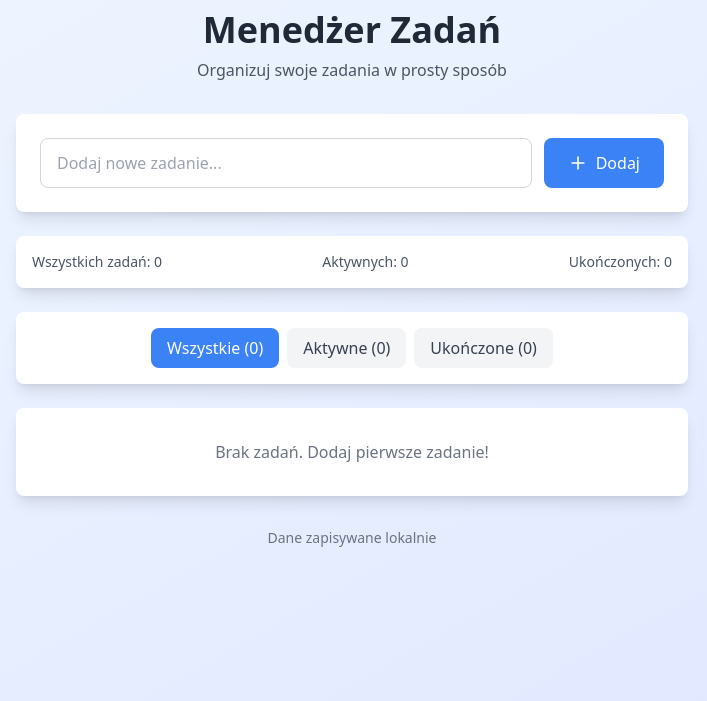
Scenario: TaskManager › filters tasks correctly
// Add one completed and one active task
In the field with placeholder "Dodaj nowe zadanie...": (286, 163) [40,138,532,188], type "Zrobione"
Click the button with aria-label "Add task": (604, 163) [544,138,664,188]
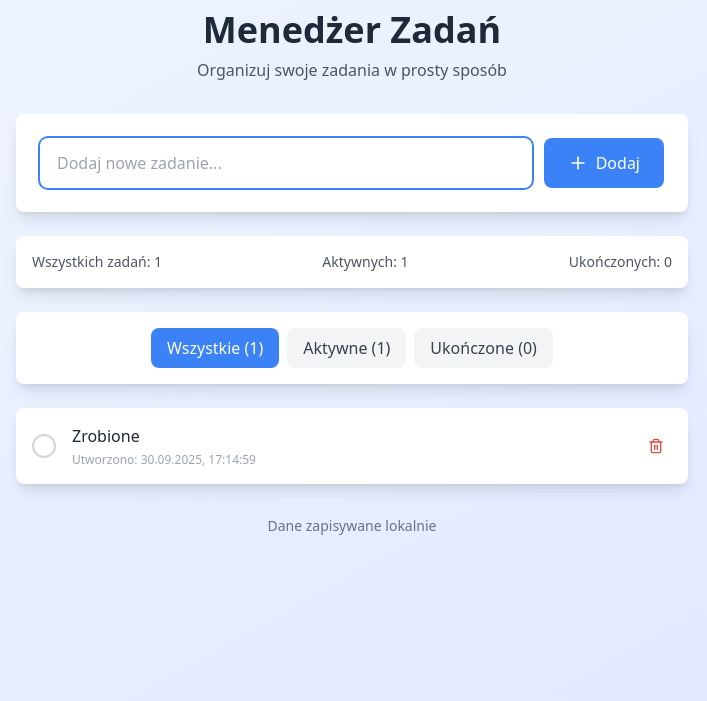
Click the button named "Toggle task": (44, 446) [32,434,56,458]
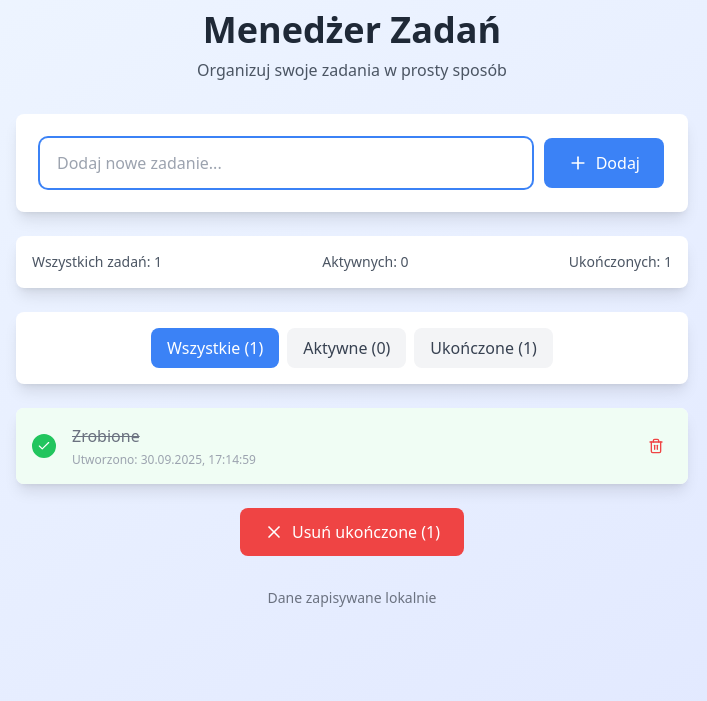
In the field with placeholder "Dodaj nowe zadanie...": (286, 163) [40,138,532,188], type "Do zrobienia"
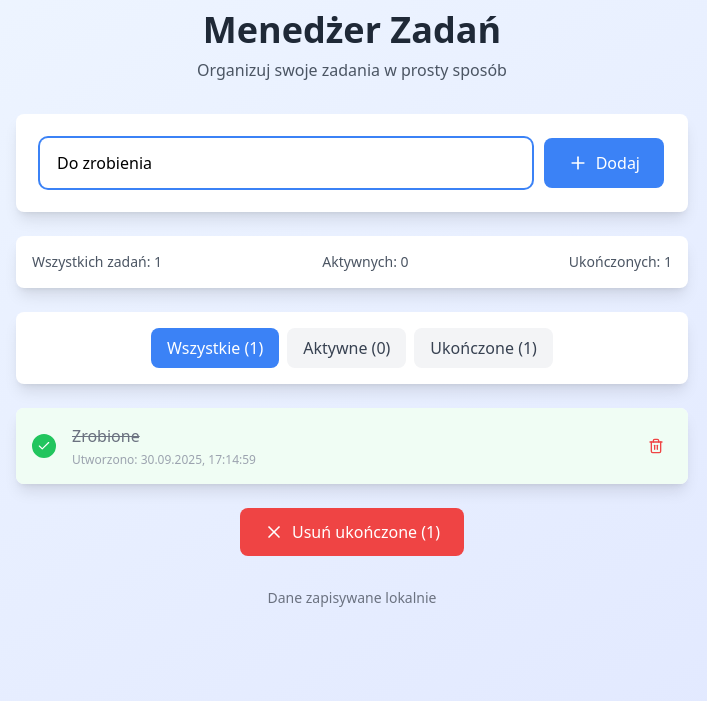
Click the button with aria-label "Add task": (604, 163) [544,138,664,188]
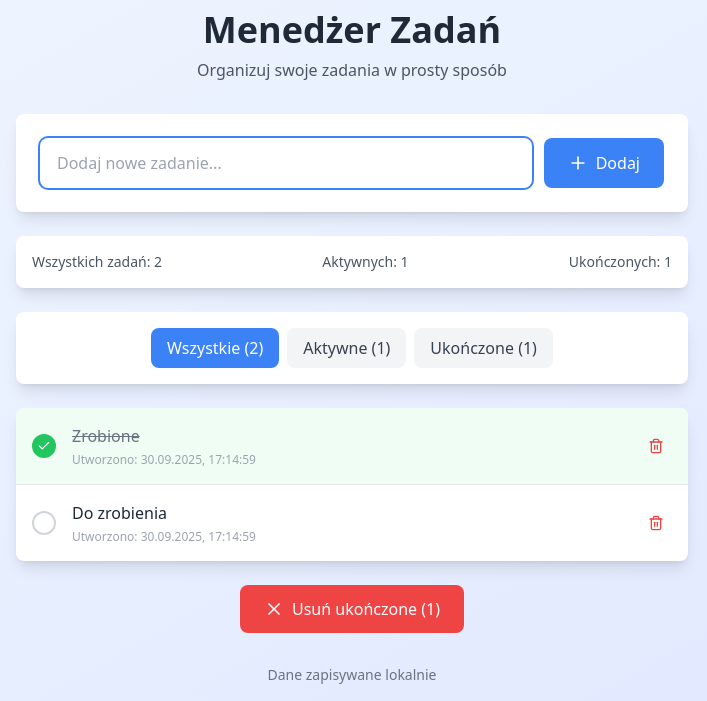
// Switch to completed
Click the button with aria-label "completed": (484, 348) [414,328,553,368]
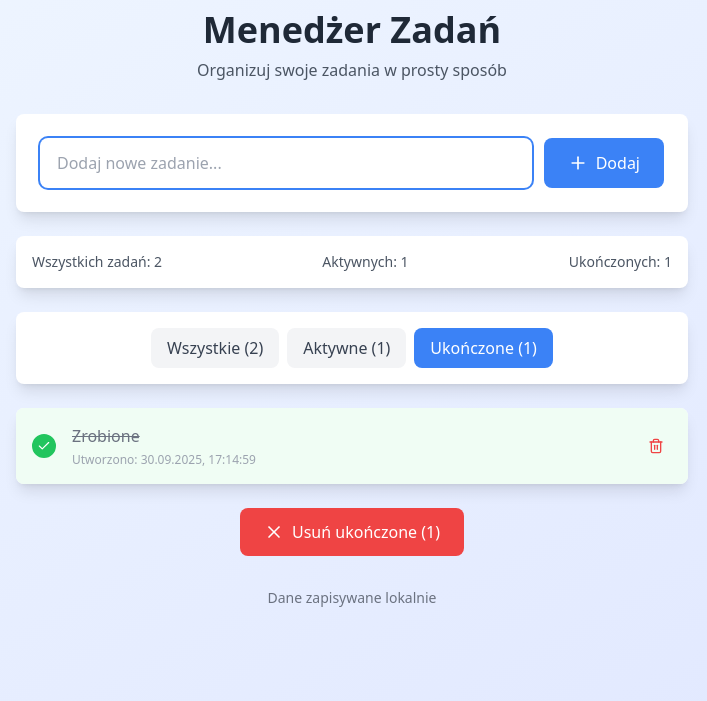
Result: the text "Zrobione" is shown at [72,425,140,447]
Result: the text "Do zrobienia" is gone
// Switch to active
Click the button with aria-label "active": (347, 348) [287,328,406,368]
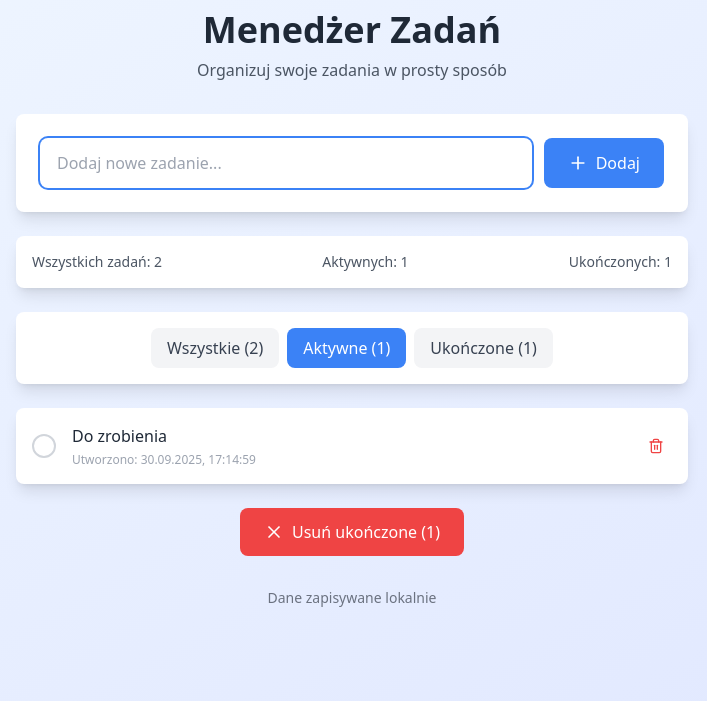
Result: the text "Do zrobienia" is shown at [72,425,167,447]
Result: the text "Zrobione" is gone
